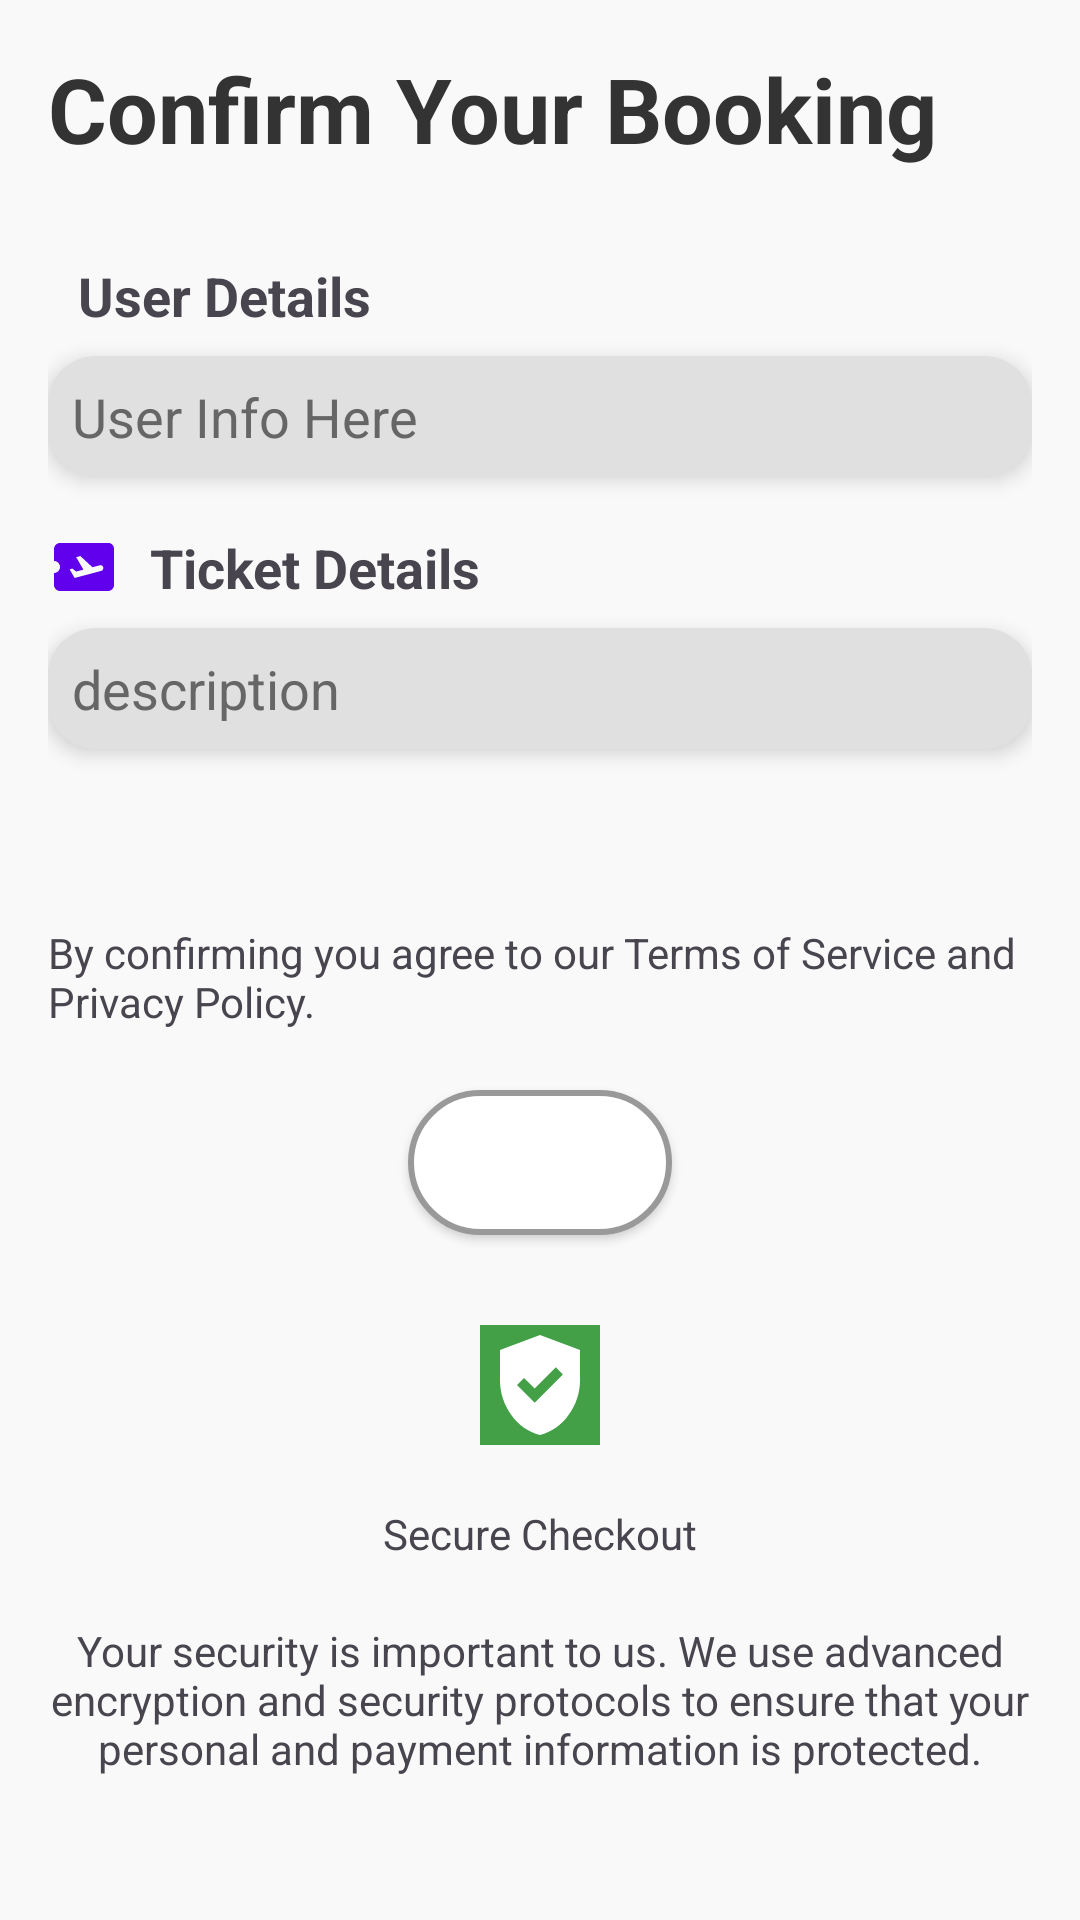

Icon click points for this 1080*1920 phone screenshot, format point (x, y):
airplane ticket: point (84, 567)
